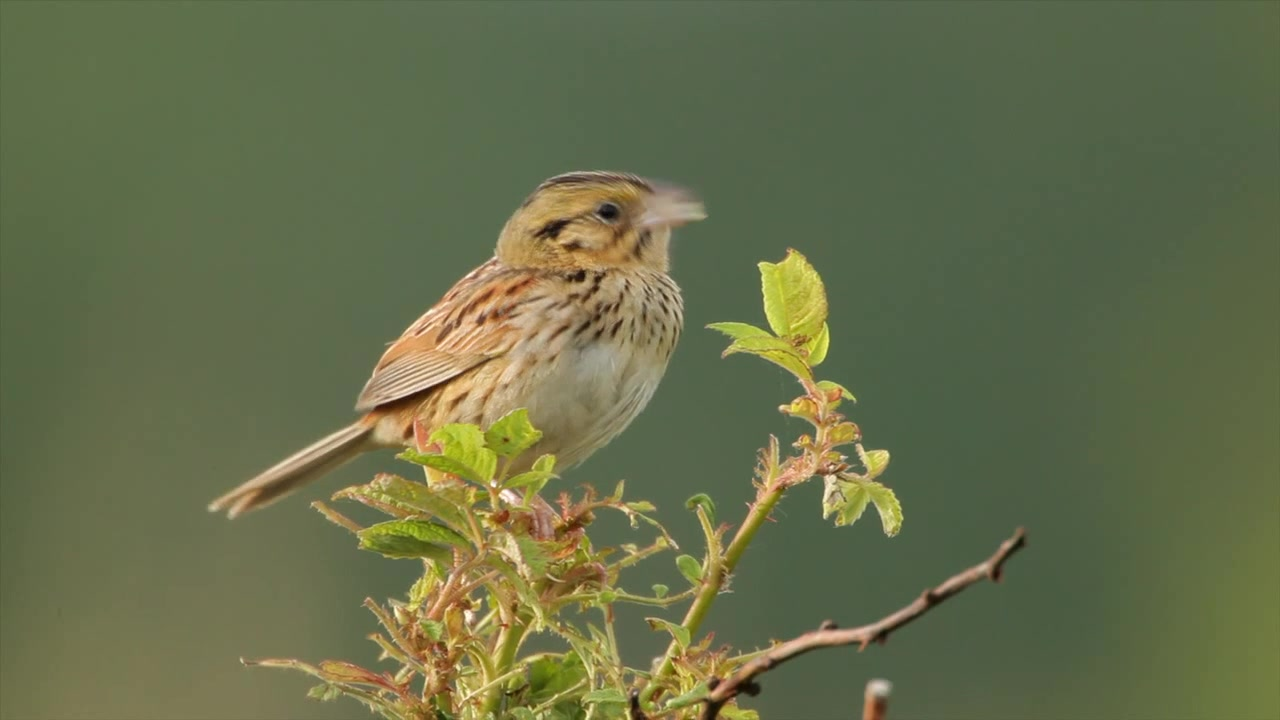bird: (208, 169, 709, 539)
